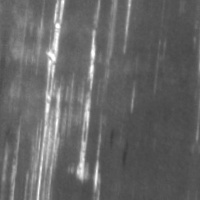scratches: (138, 1, 166, 198), (92, 28, 123, 187)
